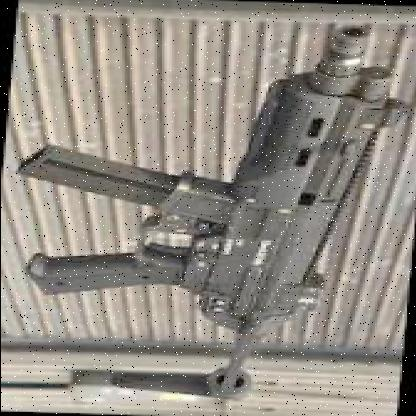rifle: (17, 16, 416, 396)
